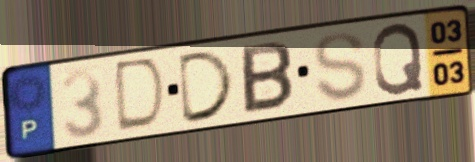3: (59, 66, 107, 141)
B: (239, 39, 296, 117)
D: (176, 47, 239, 127), (113, 55, 170, 136)
Q: (370, 20, 426, 98)
S: (311, 29, 370, 104)
